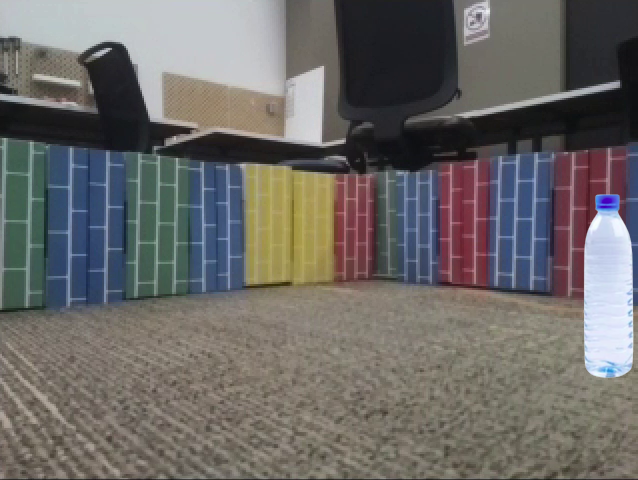bottle: (583, 194, 634, 378)
